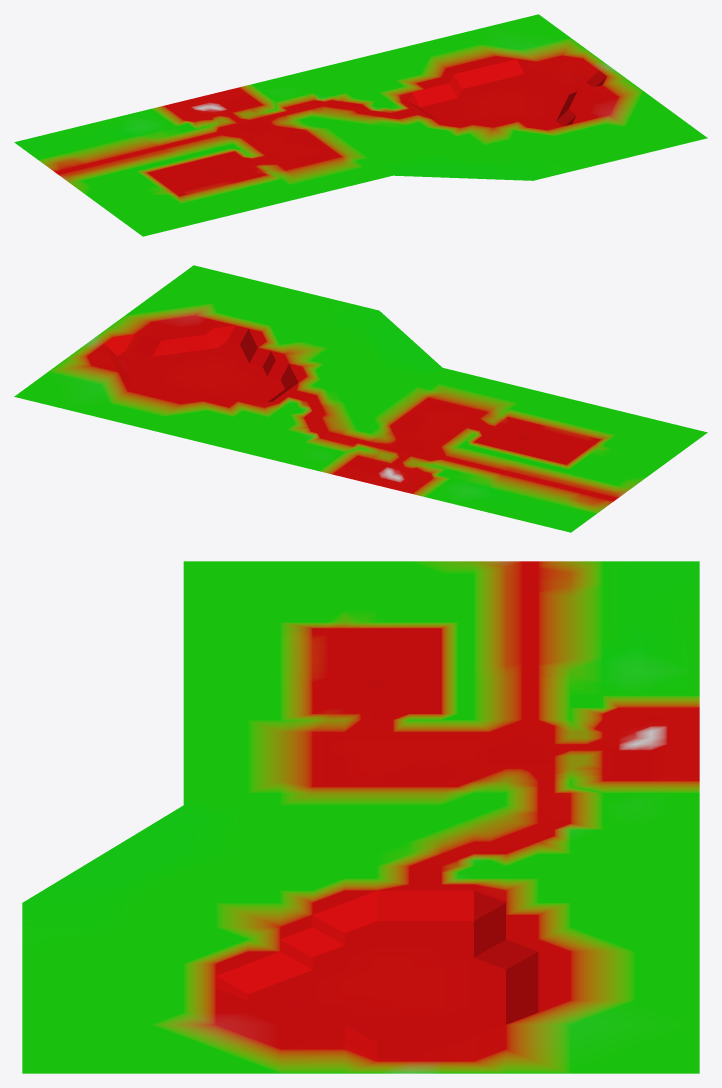
The model's file is Terrain.fbx.
3 views of the same model, one above another, from view 1: azimuth 30°, elevation 25°; view 2: azimuth 150°, elevation 25°; view 3: azimuth 270°, elevation 25° (orthographic). The views are drawn at different scales.
Parts seen in each view (by area): view 1: Terrain; view 2: Terrain; view 3: Terrain.
Part boxes in pixels (x1,y1,x2,y2): Terrain: (14,14,707,236); Terrain: (14,265,707,532); Terrain: (22,561,699,1073).
Size of the model in its own units: 12240 by 204 by 6840.
